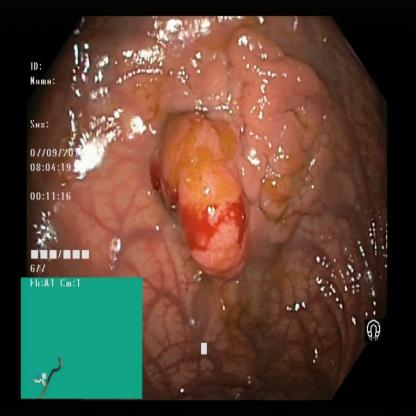Labels: (27, 55, 97, 278), (22, 276, 143, 400), (357, 306, 385, 355)
Polyps: (148, 110, 250, 276)
